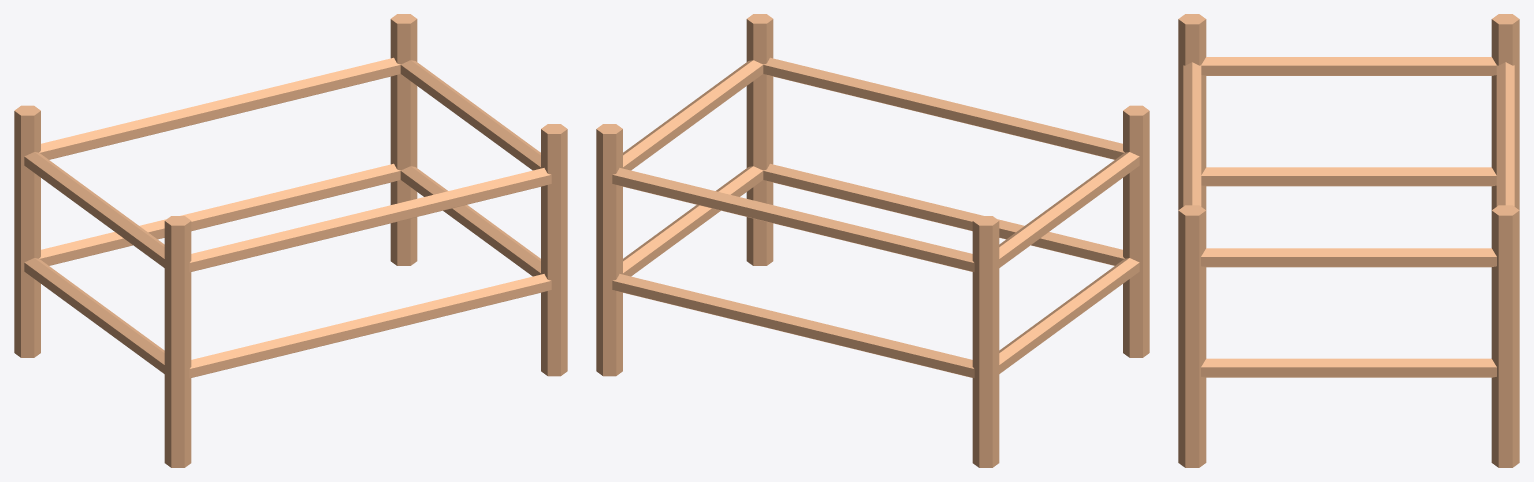
3 renders of one model, left to right at view 1: azimuth 30°, elevation 25°; view 2: azimuth 150°, elevation 25°; view 3: azimuth 270°, elevation 25°, orthographic. The views are drawn at different scales.
Parts seen in each view (by area): view 1: Fence post, Fence rail, Fence rail.002, Fence rail.003, Fence post.002, Fence post.001, Fence rail.001, Fence post.003, Fence end, Fence end.002, Fence end.003, Fence end.001; view 2: Fence post.001, Fence rail.001, Fence rail.003, Fence rail.002, Fence post.003, Fence post, Fence rail, Fence post.002, Fence end, Fence end.002, Fence end.003, Fence end.001; view 3: Fence post.002, Fence post.003, Fence end.001, Fence end, Fence end.003, Fence end.002, Fence post, Fence post.001, Fence rail.002, Fence rail.003.
Boxes of the visible parts, box(x1,y1,x2,y2) form: Fence post: box(164, 216, 191, 467); Fence rail: box(189, 274, 551, 377); Fence rail.002: box(189, 168, 551, 271); Fence rail.003: box(39, 57, 400, 159); Fence post.002: box(541, 124, 567, 376); Fence post.001: box(14, 105, 40, 357); Fence rail.001: box(39, 163, 400, 265); Fence post.003: box(390, 14, 417, 265); Fence end: box(24, 258, 164, 373); Fence end.002: box(24, 152, 164, 267); Fence end.003: box(400, 60, 540, 170); Fence end.001: box(400, 166, 540, 276); Fence post.001: box(972, 216, 999, 467); Fence rail.001: box(612, 274, 974, 377); Fence rail.003: box(612, 168, 974, 271); Fence rail.002: box(763, 57, 1124, 159); Fence post.003: box(596, 124, 622, 376); Fence post: box(1123, 105, 1149, 357); Fence rail: box(763, 163, 1124, 265); Fence post.002: box(746, 14, 773, 265); Fence end: box(999, 258, 1139, 373); Fence end.002: box(999, 152, 1139, 267); Fence end.003: box(623, 60, 763, 170); Fence end.001: box(623, 166, 763, 276); Fence post.002: box(1178, 205, 1206, 467); Fence post.003: box(1491, 205, 1519, 467); Fence end.001: box(1201, 358, 1496, 377); Fence end: box(1201, 167, 1496, 186); Fence end.003: box(1201, 248, 1496, 267); Fence end.002: box(1201, 57, 1496, 75); Fence post: box(1178, 14, 1206, 209); Fence post.001: box(1491, 14, 1519, 209); Fence rail.002: box(1183, 62, 1201, 206); Fence rail.003: box(1496, 62, 1514, 206).
Bounding box in the file's own units: 137 × 80 × 98.
